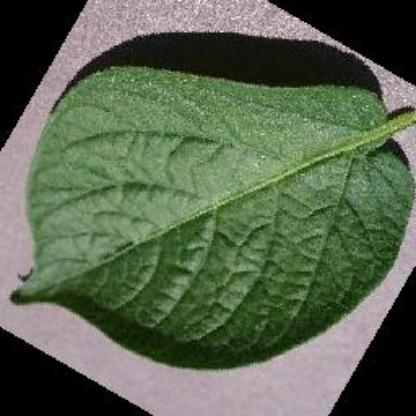Healthy-plant: (12, 61, 416, 375)
